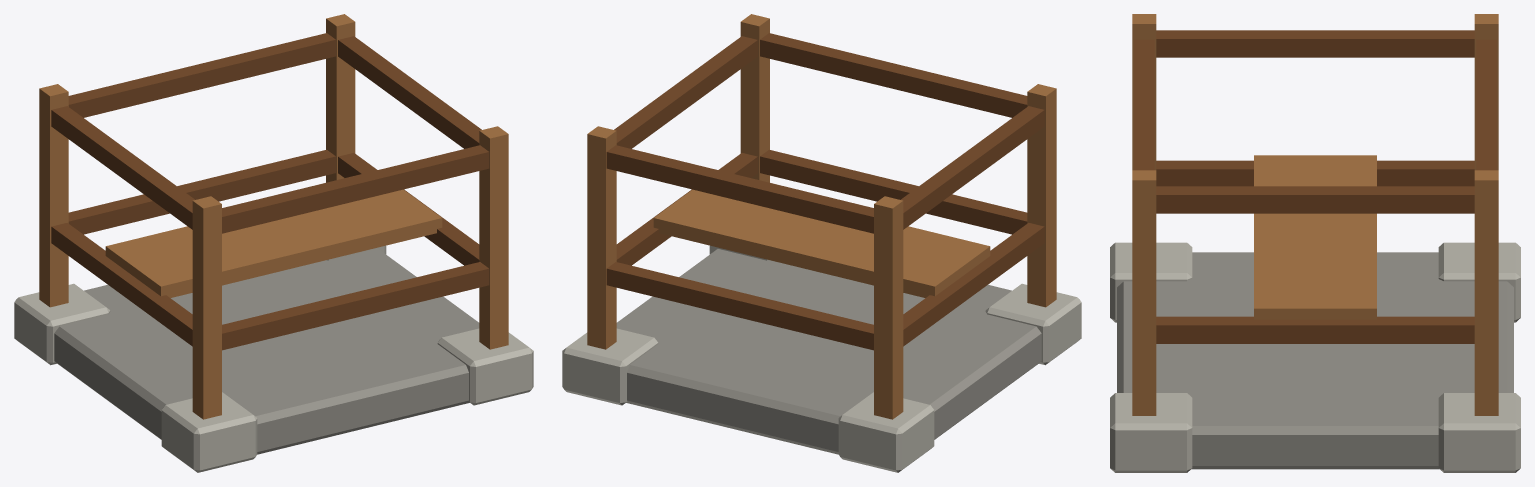
File: scaffold.glb
3 views of the same model, side by side, from view 1: azimuth 30°, elevation 25°; view 2: azimuth 150°, elevation 25°; view 3: azimuth 270°, elevation 25° (orthographic). The views are drawn at different scales.
Visible parts, largest first — view 1: foundation_core, planks_top, bar_f.001, bar_f, bar_b.001, scaf_post, scaf_post.002, bar_b, scaf_post.001, corner_brick, bar_l.001, bar_r.001 (+5 smaller); view 2: foundation_core, planks_top, bar_b.001, bar_b, bar_f.001, scaf_post.001, scaf_post.003, bar_f, scaf_post, corner_brick.001, bar_l.001, bar_r.001 (+5 smaller); view 3: foundation_core, planks_top, bar_l.001, bar_r.001, bar_r, scaf_post.002, scaf_post.003, corner_brick.002, corner_brick.003, bar_l, bar_b.001, bar_f.001 (+4 smaller).
Part boxes in pixels (x1,y1,x2,y2): foundation_core: [54, 249, 479, 454]; planks_top: [105, 189, 442, 297]; bar_f.001: [222, 145, 489, 233]; bar_f: [222, 262, 489, 350]; bar_b.001: [68, 33, 335, 117]; scaf_post: [192, 196, 221, 419]; scaf_post.002: [479, 126, 508, 349]; bar_b: [68, 149, 335, 234]; scaf_post.001: [39, 84, 68, 307]; corner_brick: [161, 392, 257, 472]; bar_l.001: [51, 106, 194, 229]; bar_r.001: [338, 36, 481, 148]; foundation_core: [616, 249, 1041, 454]; planks_top: [653, 189, 990, 297]; bar_b.001: [606, 145, 873, 233]; bar_b: [606, 262, 873, 350]; bar_f.001: [760, 33, 1027, 117]; scaf_post.001: [874, 196, 903, 419]; scaf_post.003: [587, 126, 616, 349]; bar_f: [760, 149, 1027, 234]; scaf_post: [1027, 84, 1056, 307]; corner_brick.001: [838, 392, 934, 472]; bar_l.001: [901, 106, 1044, 229]; bar_r.001: [614, 36, 757, 148]; foundation_core: [1117, 252, 1513, 469]; planks_top: [1254, 155, 1376, 319]; bar_l.001: [1156, 30, 1474, 57]; bar_r.001: [1156, 186, 1474, 213]; bar_r: [1156, 316, 1474, 343]; scaf_post.002: [1132, 170, 1156, 415]; scaf_post.003: [1474, 170, 1498, 415]; corner_brick.002: [1110, 393, 1192, 472]; corner_brick.003: [1438, 393, 1520, 472]; bar_l: [1156, 160, 1474, 186]; bar_b.001: [1476, 39, 1496, 170]; bar_f.001: [1134, 39, 1154, 170].
Size of the model in its own units: 1.28 by 0.92 by 1.2.
